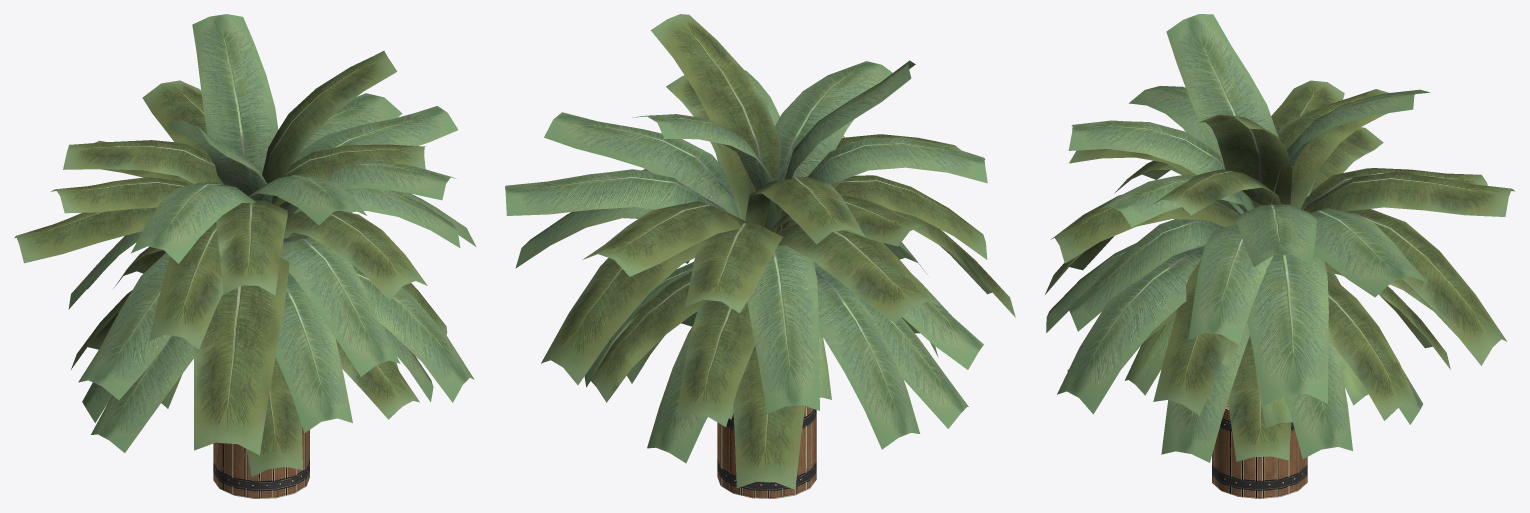
File: Potted02.FBX
The picture shows the model from 3 angles, left to right: view 1: azimuth 30°, elevation 25°; view 2: azimuth 150°, elevation 25°; view 3: azimuth 270°, elevation 25°; orthographic projection. The views are drawn at different scales.
Parts seen in each view (by area): view 1: Potted02; view 2: Potted02; view 3: Potted02.
Part boxes in pixels (x1,y1,x2,y2): Potted02: (14,14,476,498); Potted02: (505,14,1015,498); Potted02: (1045,14,1514,498).
Bounding box in the file's own units: 222 × 212 × 207.
